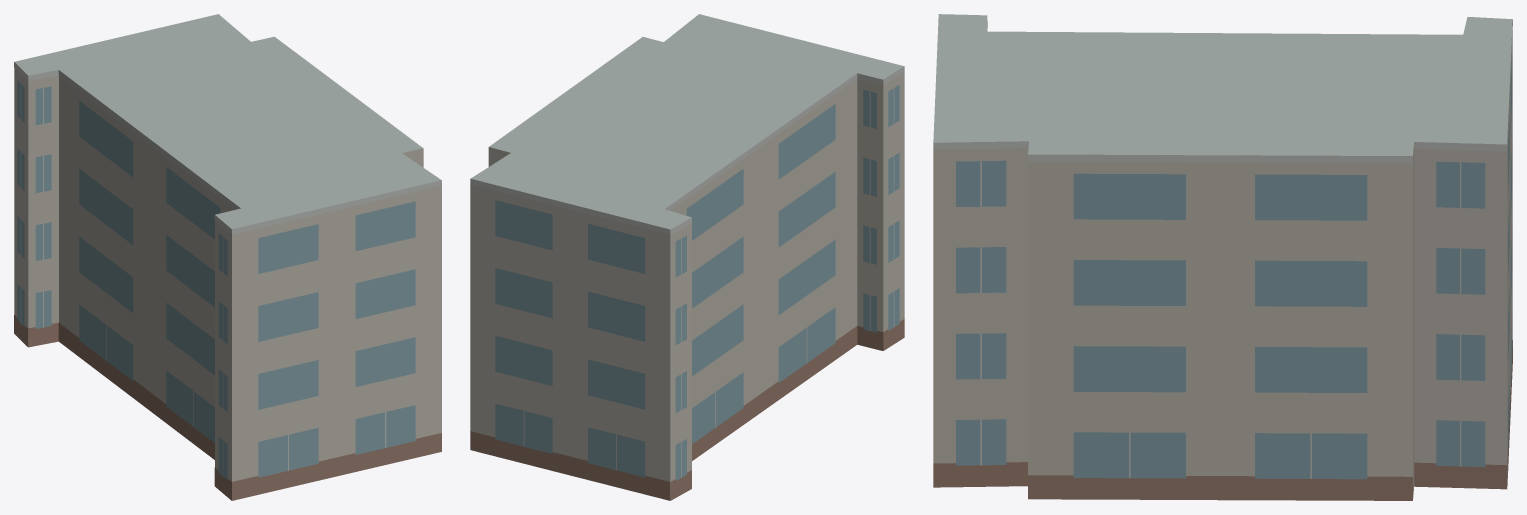
Rendered from survey-upis-32955397.glb.
3 views of the same model, side by side, from view 1: azimuth 30°, elevation 25°; view 2: azimuth 150°, elevation 25°; view 3: azimuth 270°, elevation 25° (orthographic). The views are drawn at different scales.
Parts seen in each view (by area): view 1: survey-upis-32955397.tmp; view 2: survey-upis-32955397.tmp; view 3: survey-upis-32955397.tmp.
Part boxes in pixels (box(x1,y1,x2,y2)): survey-upis-32955397.tmp: box(14, 14, 441, 500); survey-upis-32955397.tmp: box(470, 14, 904, 500); survey-upis-32955397.tmp: box(933, 14, 1512, 500).
Bounding box in the file's own units: 10.62 × 12 × 18.29.
